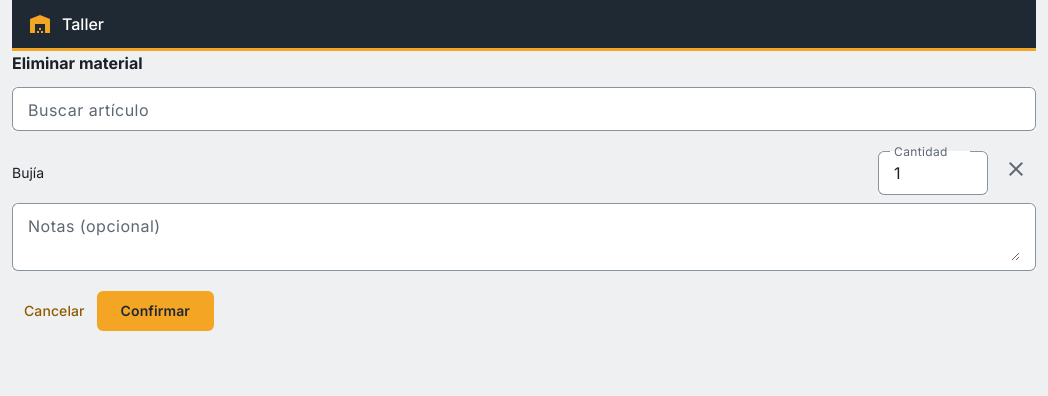
Test case: OperationFormComponent › si falla, muestra el error y no cierra
Click the submit button at (155, 311), box x1=97 y1=291 x2=214 y2=331
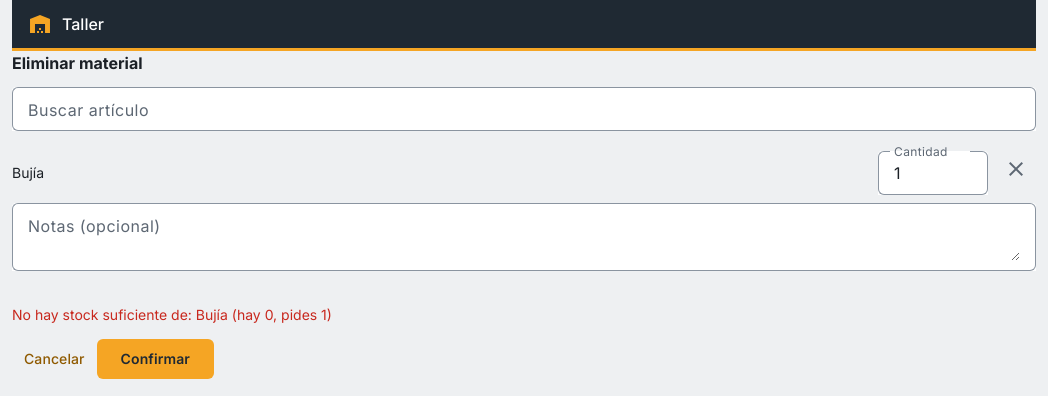
Expected: the text "Bujía" is shown, x1=12 y1=164 x2=44 y2=181
Expected: the text "No hay stock suficiente de" is shown, x1=12 y1=306 x2=332 y2=323
